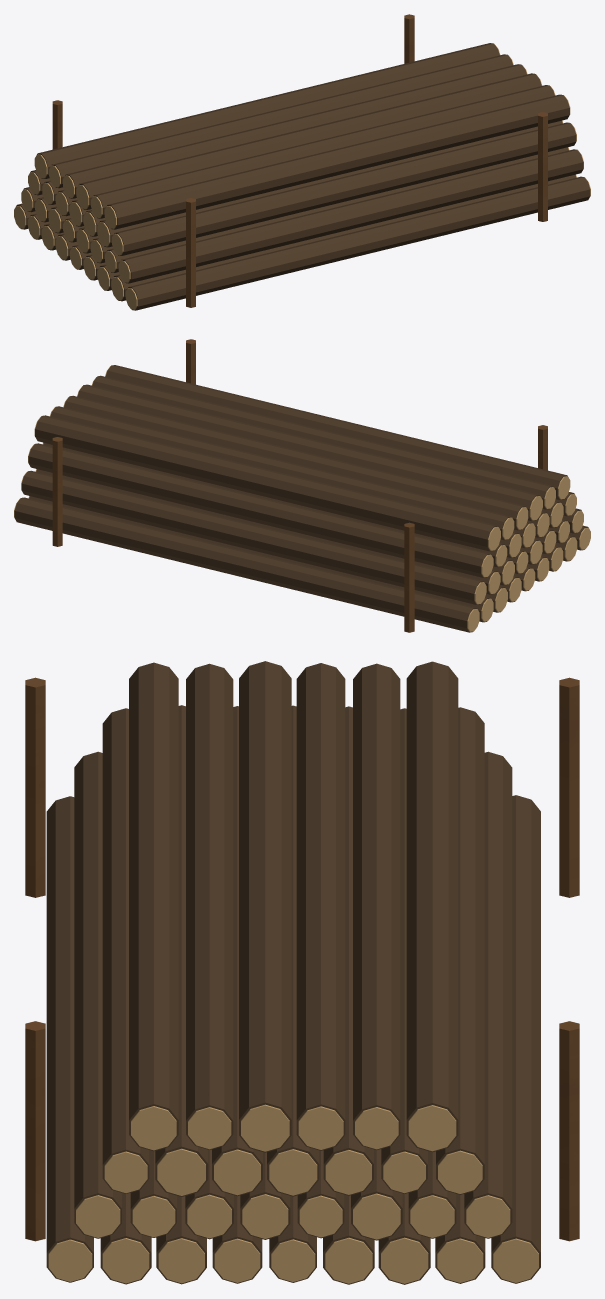
The model's file is pv_hromada_kmeny.glb.
The picture shows the model from 3 angles, top to bottom: view 1: azimuth 30°, elevation 25°; view 2: azimuth 150°, elevation 25°; view 3: azimuth 270°, elevation 25°; orthographic projection. The views are drawn at different scales.
Parts seen in each view (by area): view 1: dum; view 2: dum; view 3: dum.
Part boxes in pixels (x1,y1,x2,y2): dum: (14, 14, 590, 310); dum: (14, 339, 590, 632); dum: (25, 661, 579, 1284).
Bounding box in the file's own units: 9.02 × 1.99 × 4.76.
1 material, 1 textured.
